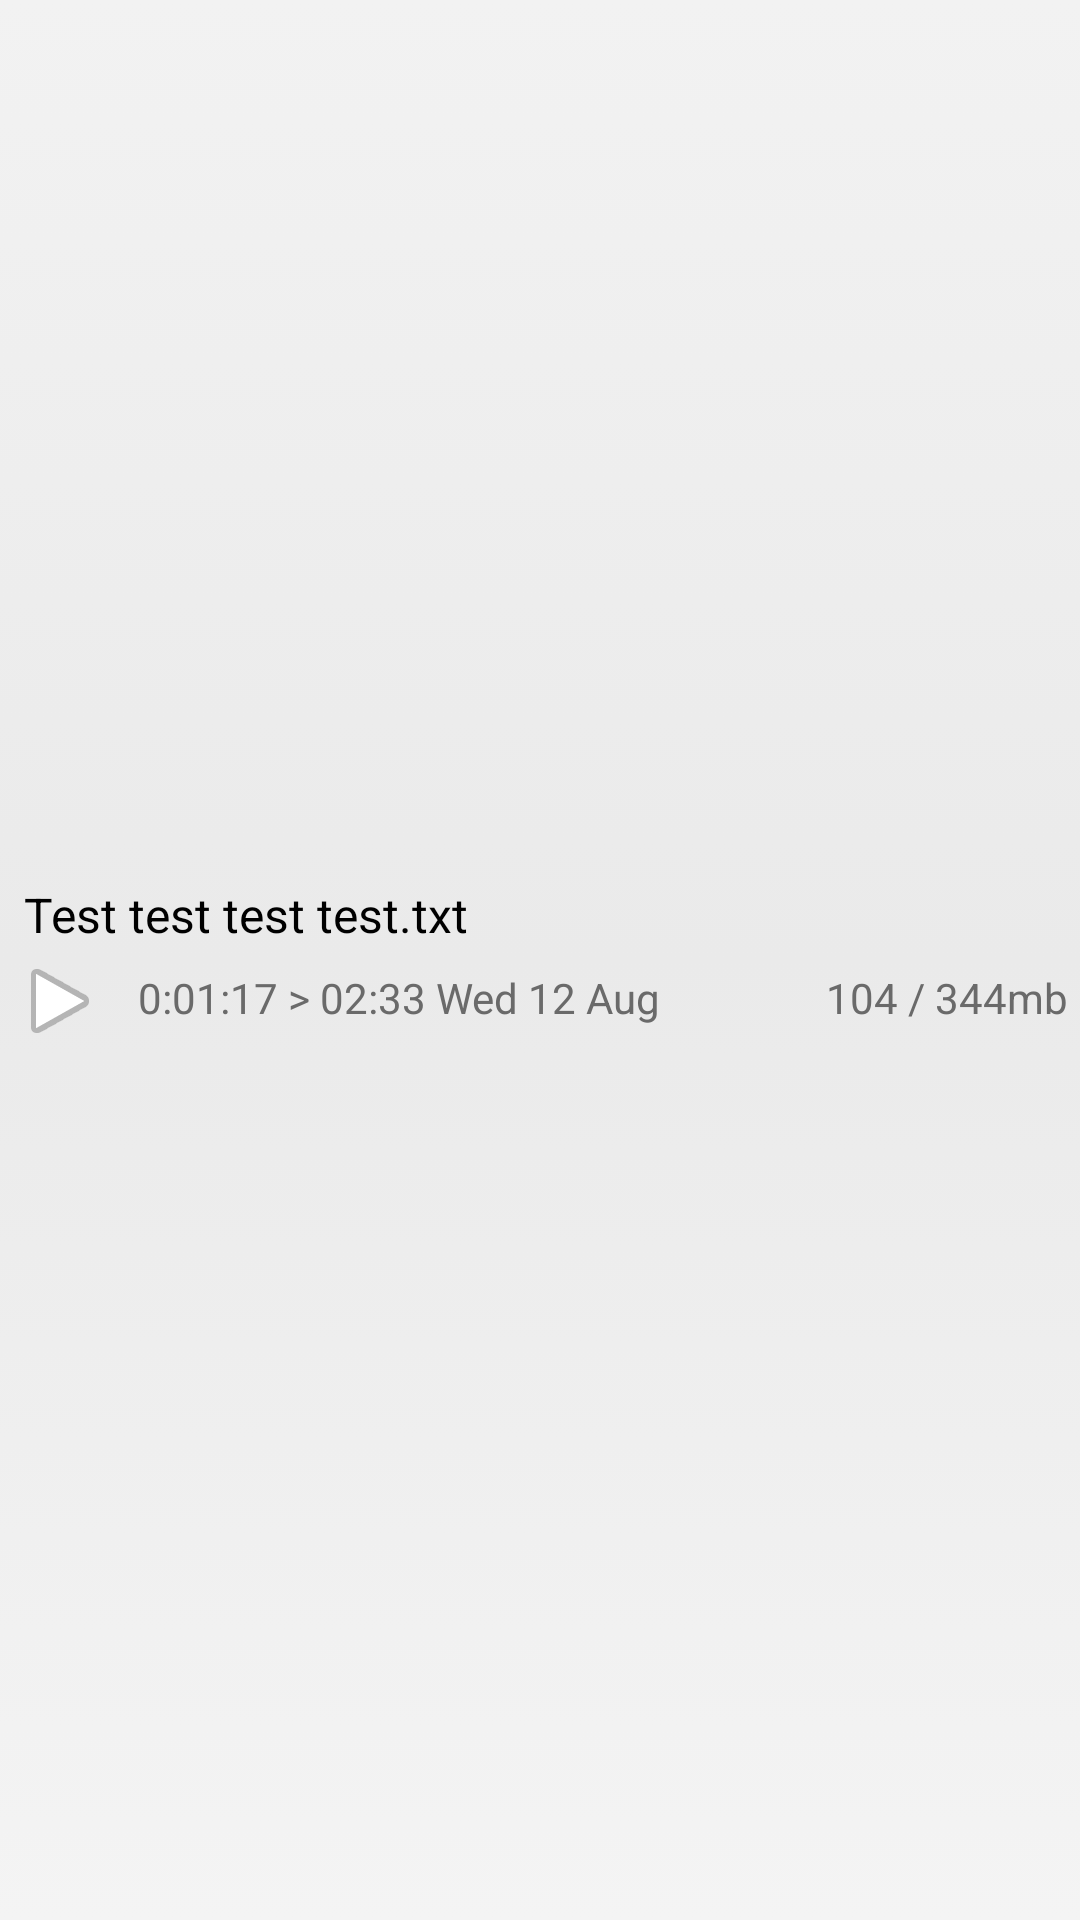

Named icons in this screenshot (1080 x 1920) and their bounding boxes, (x1, y1, x2, y2):
play: (31, 969, 89, 1033)
